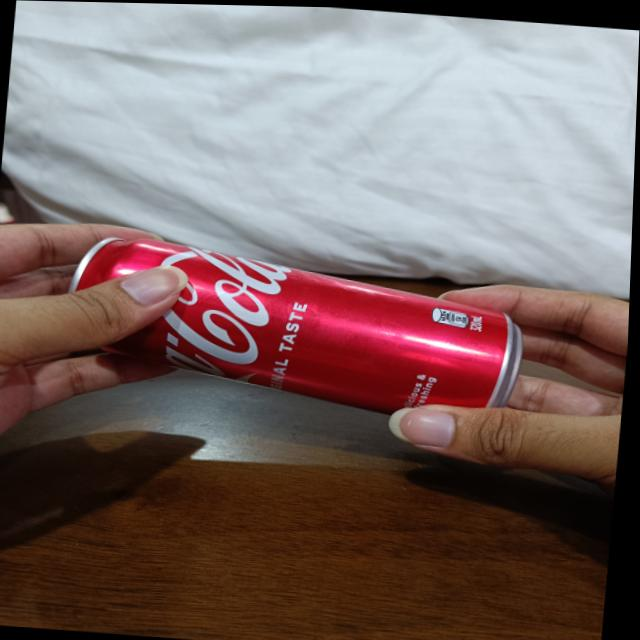coke: (60, 226, 532, 418)
